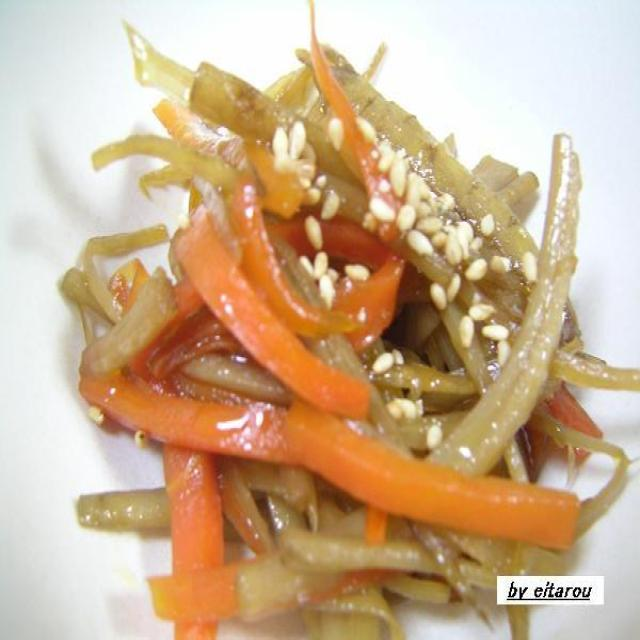蔬菜料理: (77, 72, 630, 564)
